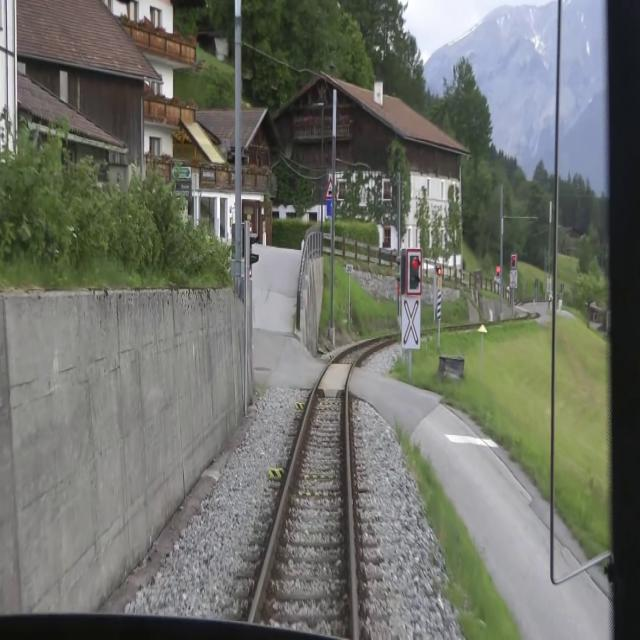rail-track: (249, 345, 368, 639)
